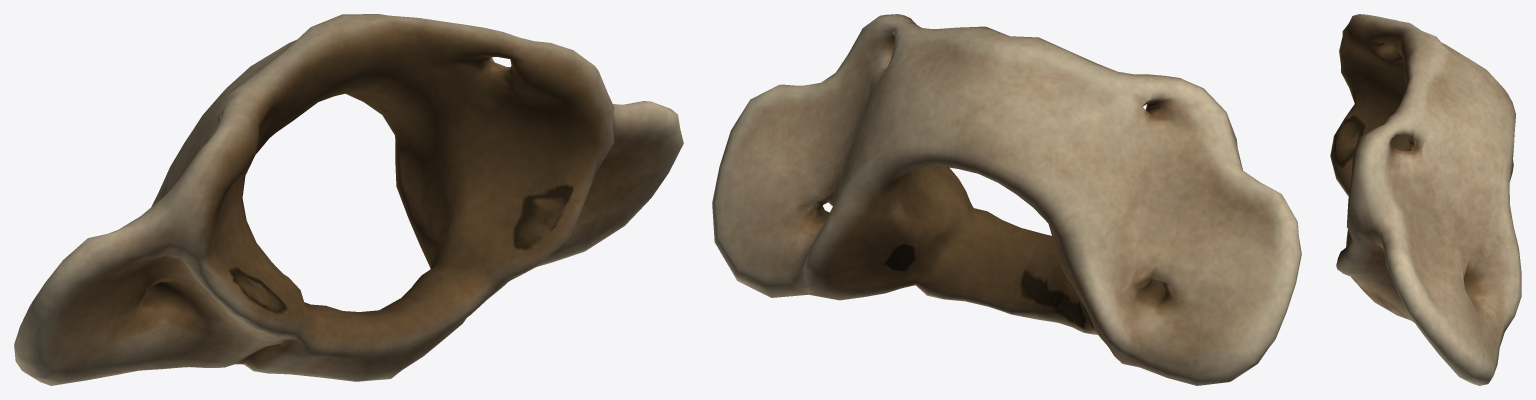
Rendered from C1_Atlas.glb.
The picture shows the model from 3 angles, left to right: view 1: azimuth 30°, elevation 25°; view 2: azimuth 150°, elevation 25°; view 3: azimuth 270°, elevation 25°; orthographic projection. The views are drawn at different scales.
Visible parts, largest first — view 1: C1_Atlas1:Group57040; view 2: C1_Atlas1:Group57040; view 3: C1_Atlas1:Group57040.
Boxes of the visible parts, x1,y1,x2,y2 form: C1_Atlas1:Group57040: (14,14,683,385); C1_Atlas1:Group57040: (712,14,1301,385); C1_Atlas1:Group57040: (1330,14,1521,385).
Bounding box in the file's own units: 61.58 × 30.88 × 20.69.
1 material, 1 textured.
